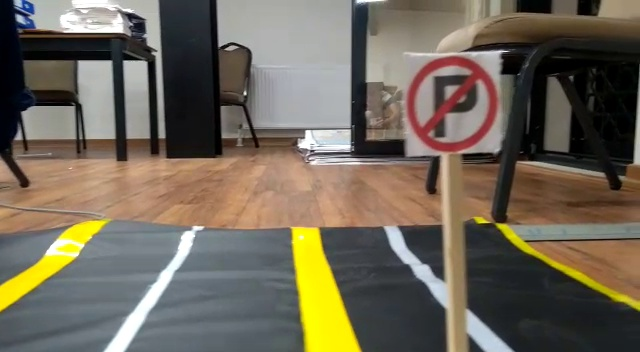park_yapilmaz: (401, 54, 502, 153)
